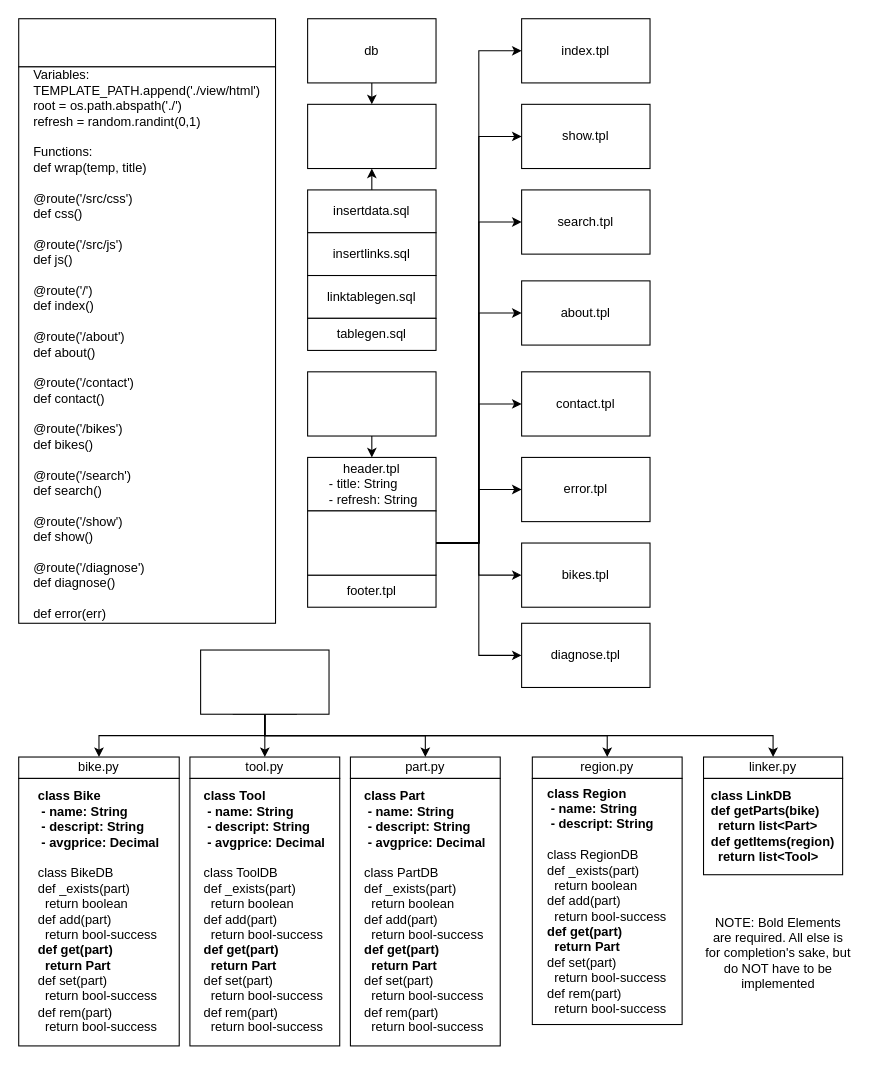
Some shapes in this 872 by 1069 pixel diagram are drawn without their labels. The shapes that lost their labels are listed below. From the top down, each one's centre as x and y in pixels, then its label:
point 147,42: main.py
point 371,136: db.sqlite3
point 371,403: view (directory)
point 371,542: Page Content
point 264,681: model (directory)
